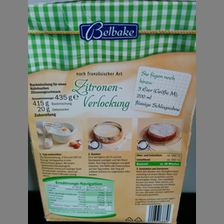cake: (29, 4, 196, 224)
